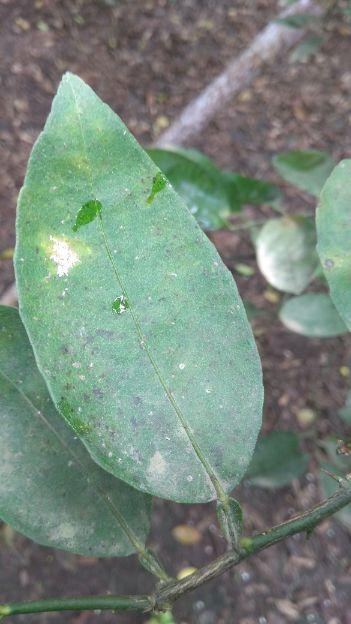Myzus persicae: (50, 235, 78, 276)
